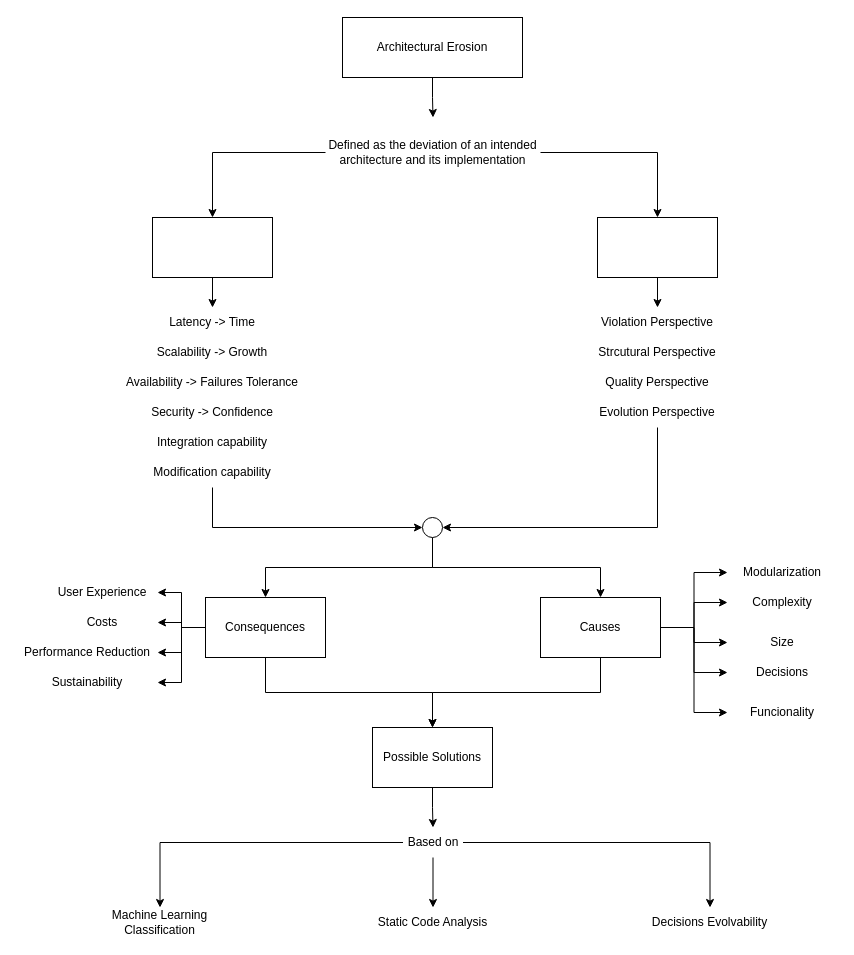
Some shapes in this 854 by 955 pixel diagram are drawn without their labels. The box of each missing label's shape, as (x1, y1, x2, y2) in pixels:
Mainly Quality Attributes Affected: (152, 216, 272, 278)
Perspectives: (596, 216, 718, 278)
